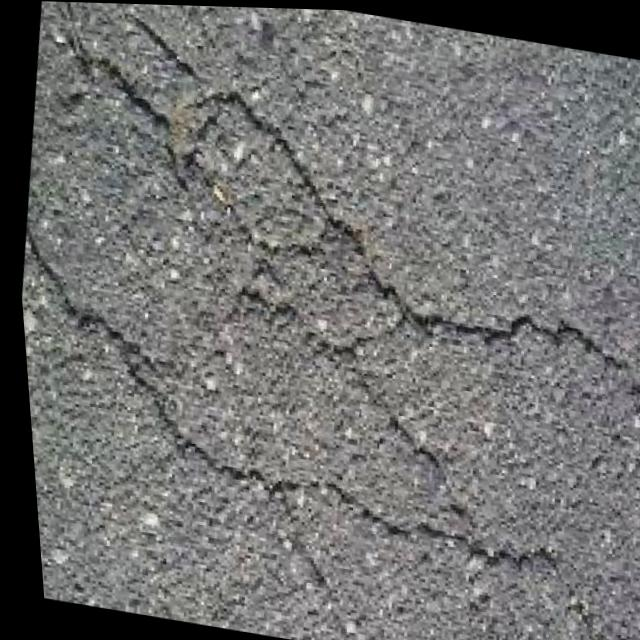Crack: (6, 0, 640, 425), (13, 226, 615, 622)
